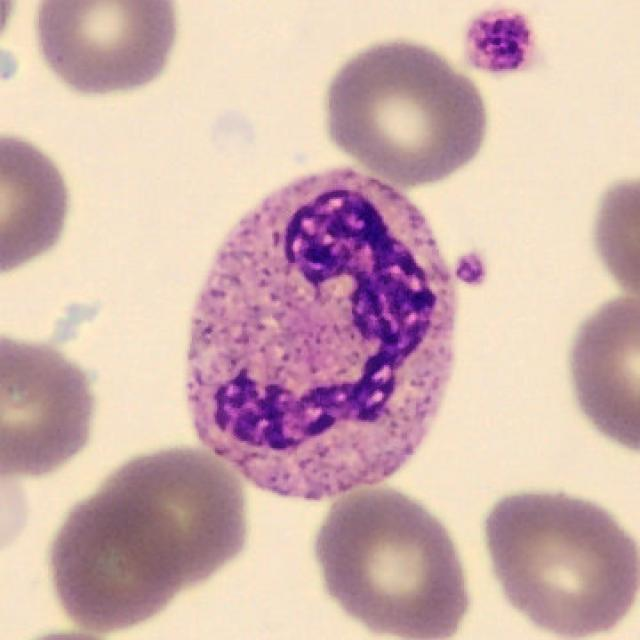Neutrofilo segmentado: (185, 170, 457, 503)
